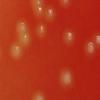white: (9, 41, 24, 60), (59, 69, 74, 88), (43, 6, 57, 23), (63, 28, 75, 47), (35, 23, 48, 40), (19, 31, 31, 48), (85, 39, 96, 56), (29, 90, 47, 100), (17, 19, 28, 35), (32, 5, 44, 19), (93, 30, 100, 47), (32, 0, 44, 8), (59, 0, 71, 8)
